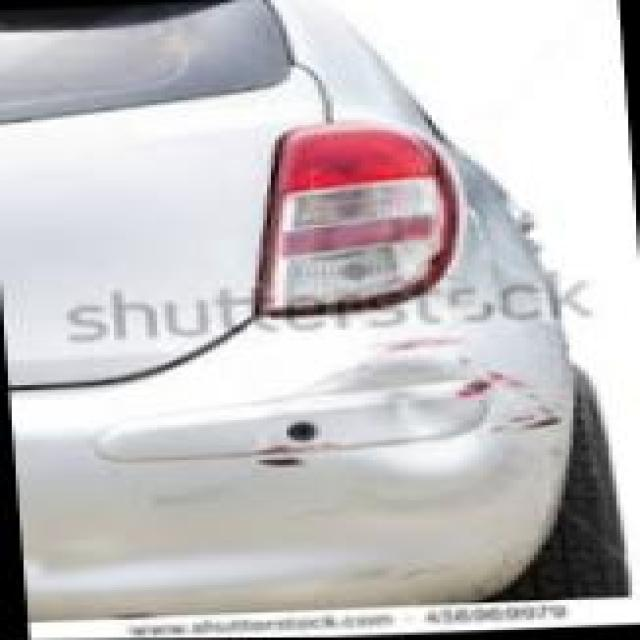Bumper: (194, 321, 576, 517)
